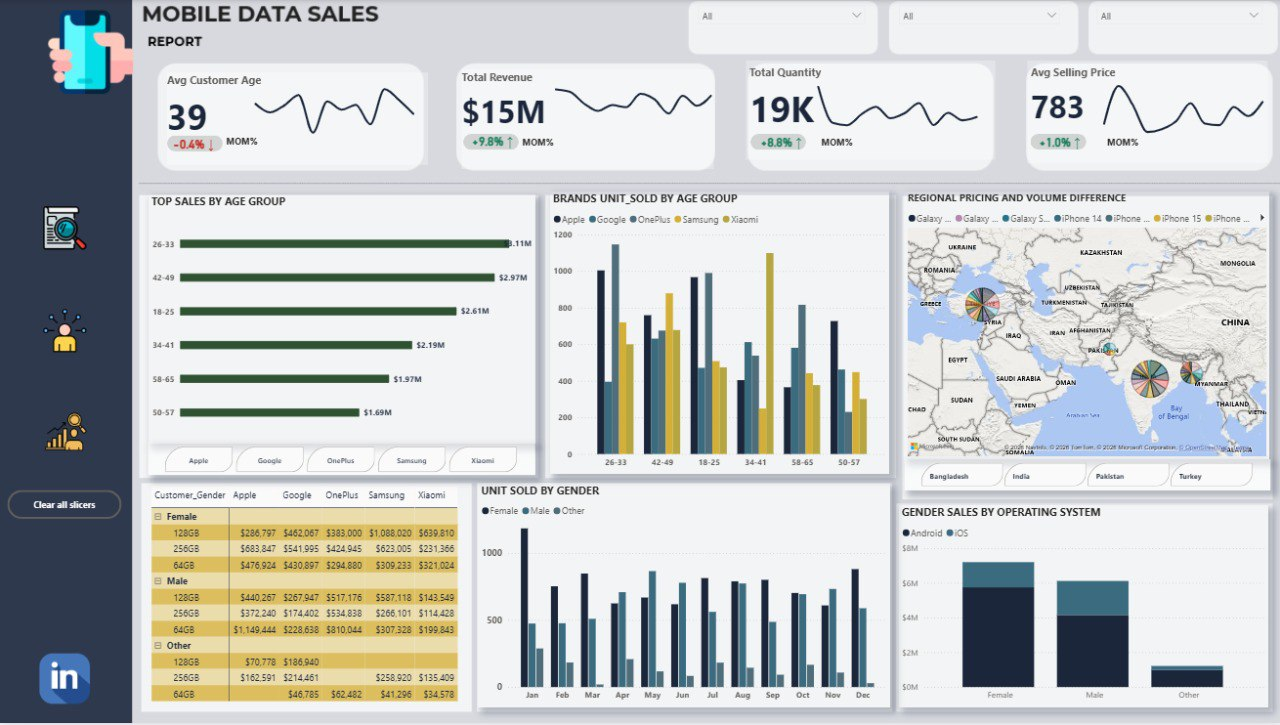

What the dashboard file says about the page in this screenshot:
{"tool":"powerbi","page":{"name":"customer insight","canvas":[1920,1080],"ordinal":1},"visuals":[{"type":"clusteredColumnChart","title":"UNIT SOLD BY GENDER","fields":{"Y":["Sum(Fact_Sales.Units_Sold)"],"Category":["DateTable.Month name"],"Series":["Fact_Sales.Customer_Gender"]},"box":[717.3,721.6,614.5,334.6],"z":0},{"type":"clusteredBarChart","title":"TOP SALES BY AGE GROUP","fields":{"Category":["Fact_Sales.Customer_Age_Group"],"Y":["Dax.Total Revenue"]},"box":[225.2,290.8,577.3,371.8],"z":1000},{"type":"lineClusteredColumnComboChart","title":"BRANDS  UNIT_SOLD BY  AGE  GROUP","fields":{"Category":["Fact_Sales.Customer_Age_Group"],"Series":["Fact_Sales.Brand"],"Y":["Sum(Fact_Sales.Units_Sold)"]},"box":[824.4,286.5,507.3,422.1],"z":2000},{"type":"pivotTable","fields":{"Rows":["Fact_Sales.Customer_Gender","Fact_Sales.Storage_Size"],"Columns":["Fact_Sales.Brand"],"Values":["Sum(Fact_Sales.Total_Revenue)"]},"box":[225.2,721.6,476.7,334.6],"z":3000},{"type":"lineStackedColumnComboChart","title":"GENDER SALES BY OPERATING SYSTEM","fields":{"Category":["Fact_Sales.Customer_Gender"],"Series":["Fact_Sales.Operating_System"],"Y":["Sum(Fact_Sales.Total_Revenue)"]},"box":[1344.9,754.4,551.1,301.8],"z":4000},{"type":"map","title":"REGIONAL PRICING AND VOLUME DIFFERENCE","fields":{"Category":["Fact_Sales.Country"],"Size":["Sum(Fact_Sales.Units_Sold)"],"Series":["Fact_Sales.Mobile_Model"]},"box":[1353.6,286.5,544.5,400.2],"z":5000},{"type":"cardVisual","fields":{"Data":["Dax.Avg Customer Age"]},"box":[253.7,109.3,389.2,137.8],"z":6000},{"type":"cardVisual","fields":{"Data":["Dax.Avg  price Of Device"]},"box":[1538.4,92.4,358.8,152.5],"z":7000},{"type":"cardVisual","fields":{"Data":["Dax.Total unit_sold"]},"box":[1117.3,92.4,371.7,148.3],"z":8000},{"type":"cardVisual","fields":{"Data":["Dax.Total Revenue"]},"box":[693.2,105,376.1,148.7],"z":9000},{"type":"shape","box":[1124,201.2,83.1,24.1],"z":10000},{"type":"shape","box":[1542.7,202,83.8,23.6],"z":11000},{"type":"textbox","box":[336.2,197.6,72.7,45.4],"z":12000},{"type":"card","fields":{"Values":["Dax.total unit MoM Final"]},"box":[1117.4,188.1,105,52.5],"z":13000},{"type":"textbox","box":[1224.2,199.9,79.5,29.5],"z":14000},{"type":"textbox","box":[777.8,199.8,70.9,40.8],"z":15000},{"type":"textbox","box":[1651.2,199.9,65.9,34.1],"z":16000},{"type":"card","fields":{"Values":["Dax.avg price of device MoM Final"]},"box":[1532.9,188.1,105,52.5],"z":17000},{"type":"slicer","fields":{"Values":["Fact_Sales.Customer_Gender"]},"box":[1035.6,0,268.6,68.8],"z":18000},{"type":"slicer","fields":{"Values":["Fact_Sales.Sales_Channel"]},"box":[1336.4,0,260,68.8],"z":19000},{"type":"slicer","fields":{"Values":["Fact_Sales.Color"]},"box":[1630.8,0,266.4,68.8],"z":20000},{"type":"advancedSlicerVisual","fields":{"Values":["Fact_Sales.Brand"]},"box":[225.2,662.6,577.3,48.1],"z":21000},{"type":"advancedSlicerVisual","fields":{"Values":["Fact_Sales.Country"]},"box":[1353.6,686.7,546.7,45.9],"z":22000},{"type":"lineChart","fields":{"Y":["Dax.Avg Customer Age"],"Category":["DateTable.Month name"]},"box":[371.8,109.3,262.4,111.5],"z":23000},{"type":"lineChart","fields":{"Y":["Dax.Total Revenue"],"Category":["DateTable.Month name"]},"box":[820,105,258,87.5],"z":24000},{"type":"lineChart","fields":{"Y":["Dax.Total unit_sold"],"Category":["DateTable.Month name"]},"box":[1210.6,111.3,263.5,99.9],"z":25000},{"type":"lineChart","fields":{"Y":["Dax.Avg  price Of Device"],"Category":["DateTable.Month name"]},"box":[1637.6,109,263.5,111.3],"z":26000},{"type":"image","box":[45.1,971.2,109.6,85.9],"z":27000},{"type":"image","box":[63.6,304.4,75,75],"z":28000},{"type":"image","box":[63.6,447.4,75,93.1],"z":29000},{"type":"image","box":[47.7,608.7,109,75],"z":30000},{"type":"actionButton","box":[15.9,733.6,170.3,43.2],"z":31000},{"type":"shape","box":[695.4,201.2,83.1,24.1],"z":32000},{"type":"shape","box":[253.7,203.4,83.1,24.1],"z":33000},{"type":"card","fields":{"Values":["Dax.total revenue MoM Final"]},"box":[686.7,185.9,105,52.5],"z":34000},{"type":"card","fields":{"Values":["Dax.avg customer MoM Final"]},"box":[240.5,190.3,105,52.5],"z":35000}]}

Visuals, with their boxes in screenshot pixels (x1, y1, x2, y2), scaled from the page's 1920x1080 canvas onto the 1280x725 screenshot:
"UNIT SOLD BY GENDER" clusteredColumnChart: (left=478, top=484, right=888, bottom=709)
"TOP SALES BY AGE GROUP" clusteredBarChart: (left=150, top=195, right=535, bottom=445)
"BRANDS  UNIT_SOLD BY  AGE  GROUP" lineClusteredColumnComboChart: (left=550, top=192, right=888, bottom=476)
pivotTable - Fact_Sales.Customer_Gender x Fact_Sales.Storage_Size: (left=150, top=484, right=468, bottom=709)
"GENDER SALES BY OPERATING SYSTEM" lineStackedColumnComboChart: (left=897, top=506, right=1264, bottom=709)
"REGIONAL PRICING AND VOLUME DIFFERENCE" map: (left=902, top=192, right=1265, bottom=461)
cardVisual - Dax.Avg Customer Age: (left=169, top=73, right=429, bottom=166)
cardVisual - Dax.Avg  price Of Device: (left=1026, top=62, right=1265, bottom=164)
cardVisual - Dax.Total unit_sold: (left=745, top=62, right=993, bottom=162)
cardVisual - Dax.Total Revenue: (left=462, top=70, right=713, bottom=170)
shape: (left=749, top=135, right=805, bottom=151)
shape: (left=1028, top=136, right=1084, bottom=151)
textbox: (left=224, top=133, right=273, bottom=163)
card - Dax.total unit MoM Final: (left=745, top=126, right=815, bottom=162)
textbox: (left=816, top=134, right=869, bottom=154)
textbox: (left=519, top=134, right=566, bottom=162)
textbox: (left=1101, top=134, right=1145, bottom=157)
card - Dax.avg price of device MoM Final: (left=1022, top=126, right=1092, bottom=162)
slicer - Fact_Sales.Customer_Gender: (left=690, top=0, right=869, bottom=46)
slicer - Fact_Sales.Sales_Channel: (left=891, top=0, right=1064, bottom=46)
slicer - Fact_Sales.Color: (left=1087, top=0, right=1265, bottom=46)
advancedSlicerVisual - Fact_Sales.Brand: (left=150, top=445, right=535, bottom=477)
advancedSlicerVisual - Fact_Sales.Country: (left=902, top=461, right=1267, bottom=492)
lineChart - Dax.Avg Customer Age x DateTable.Month name: (left=248, top=73, right=423, bottom=148)
lineChart - Dax.Total Revenue x DateTable.Month name: (left=547, top=70, right=719, bottom=129)
lineChart - Dax.Total unit_sold x DateTable.Month name: (left=807, top=75, right=983, bottom=142)
lineChart - Dax.Avg  price Of Device x DateTable.Month name: (left=1092, top=73, right=1267, bottom=148)
image: (left=30, top=652, right=103, bottom=710)
image: (left=42, top=204, right=92, bottom=255)
image: (left=42, top=300, right=92, bottom=363)
image: (left=32, top=409, right=104, bottom=459)
actionButton: (left=11, top=492, right=124, bottom=521)
shape: (left=464, top=135, right=519, bottom=151)
shape: (left=169, top=137, right=225, bottom=153)
card - Dax.total revenue MoM Final: (left=458, top=125, right=528, bottom=160)
card - Dax.avg customer MoM Final: (left=160, top=128, right=230, bottom=163)
